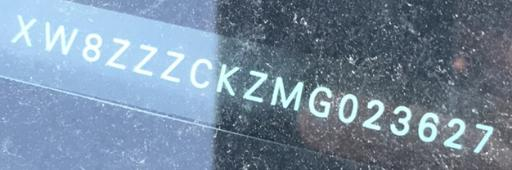letter: (44, 18, 80, 55), (270, 75, 306, 111), (131, 41, 159, 78), (240, 66, 268, 102), (159, 47, 185, 85), (10, 12, 38, 47), (105, 33, 131, 70), (308, 83, 334, 119), (360, 97, 386, 130), (442, 114, 466, 149), (189, 54, 213, 88), (216, 61, 240, 95), (417, 109, 441, 142), (473, 118, 495, 153), (80, 31, 104, 62), (337, 90, 359, 122), (390, 104, 412, 135)
